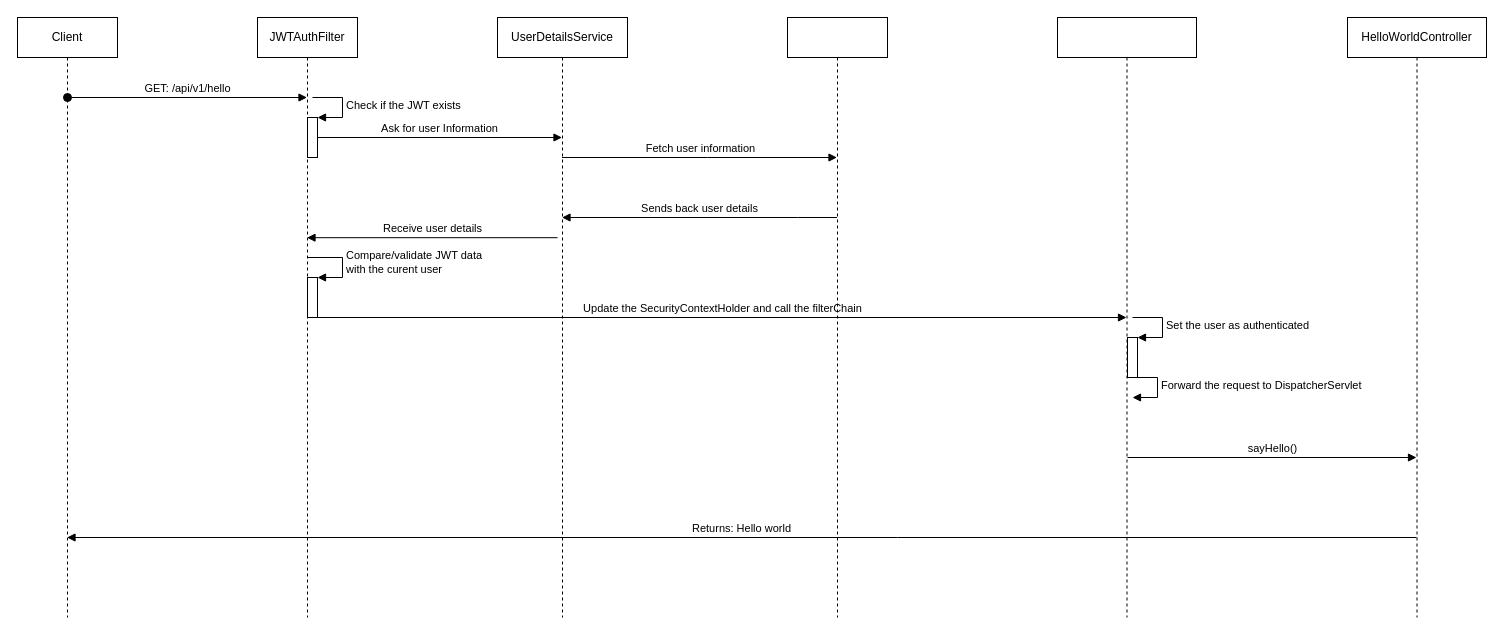
Image size: 1504x635. Some labels were removed from this diagram. The box of each missing label's shape, as (x1, y1, x2, y2) in pixels:
InMemoryUser DB: (786, 16, 888, 618)
SecurityContextHolder: (1056, 16, 1196, 618)
